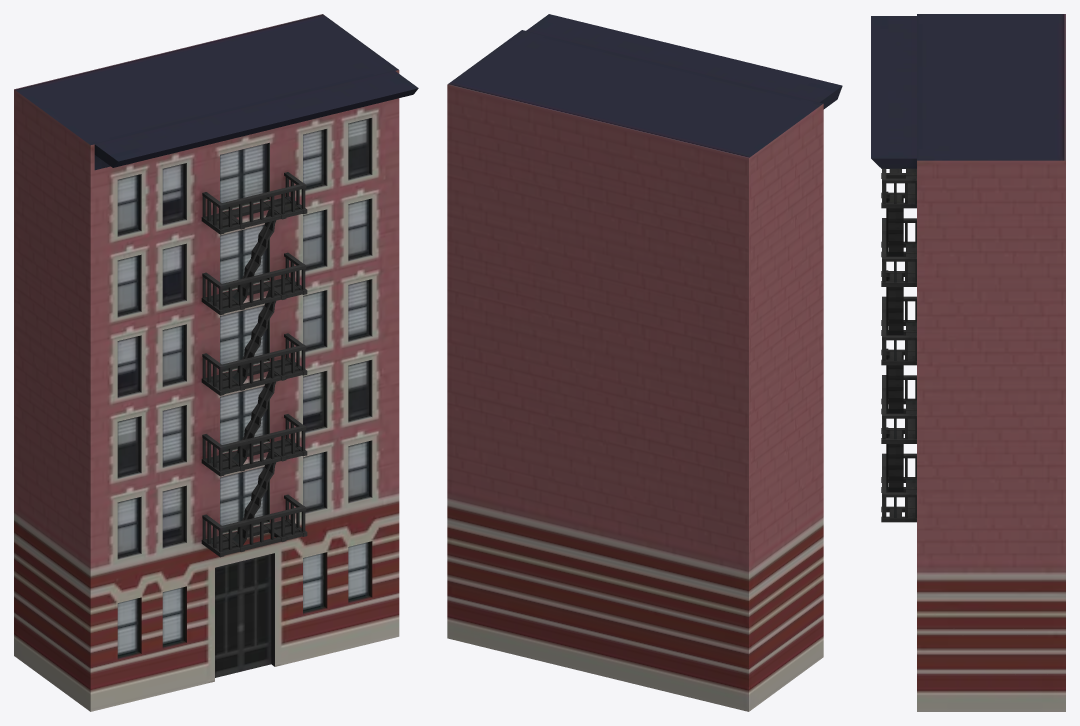
File: apartment.glb
3 views of the same model, side by side, from view 1: azimuth 30°, elevation 25°; view 2: azimuth 150°, elevation 25°; view 3: azimuth 270°, elevation 25° (orthographic). The views are drawn at different scales.
Visible parts, largest first — view 1: Apartment_mesh; view 2: Apartment_mesh; view 3: Apartment_mesh.
Part boxes in pixels (left/top/right/bottom): Apartment_mesh: left=14, top=14, right=418, bottom=711; Apartment_mesh: left=447, top=14, right=842, bottom=711; Apartment_mesh: left=871, top=14, right=1065, bottom=711.
Size of the model in its own units: 10.32 by 18.1 by 5.79.
1 material, 1 textured.
